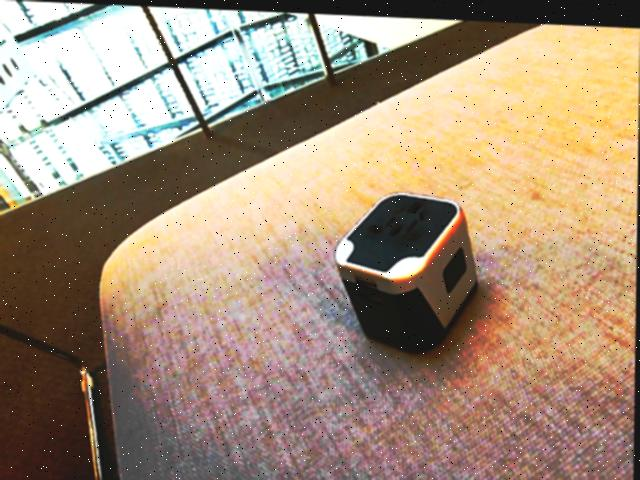adapter: (333, 185, 479, 352)
